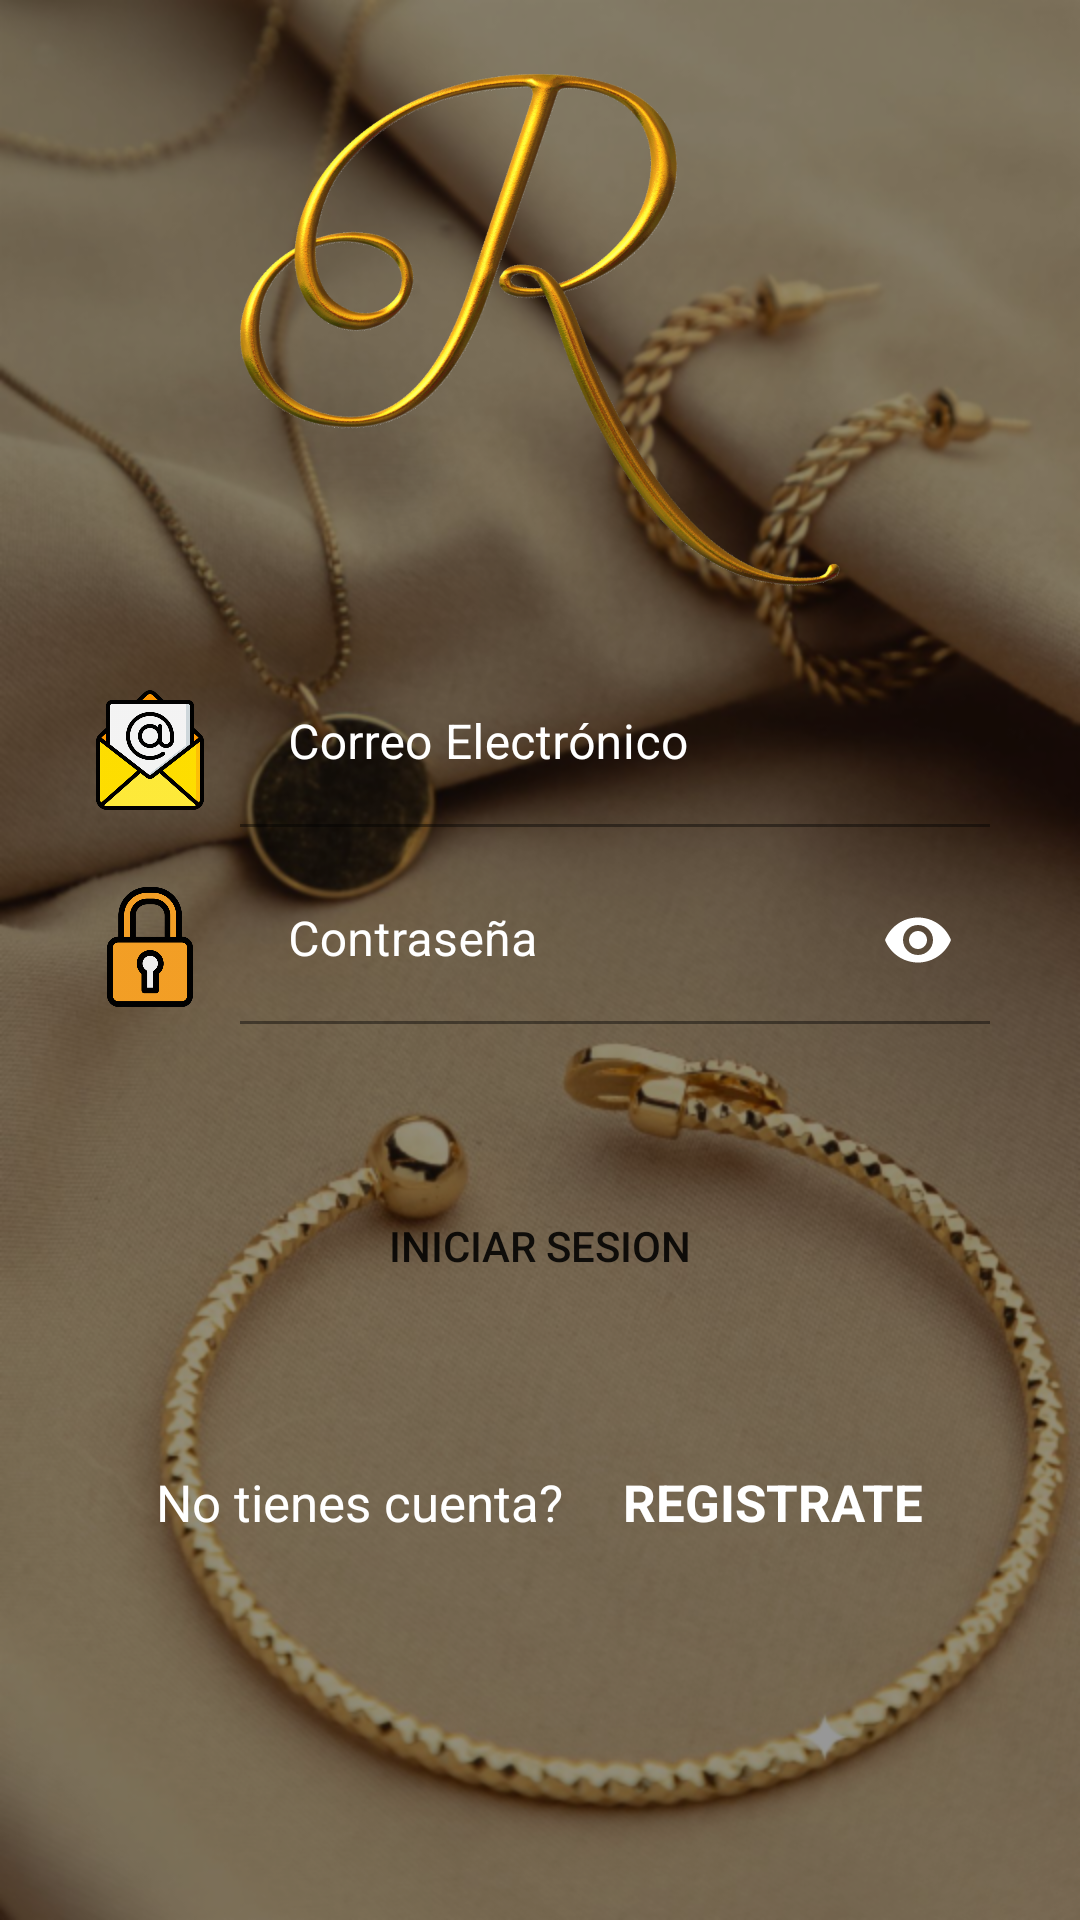

Screen size 1080px×1920px. Icon name, then its center in pixels as (x=x, y=y):
candado: (x=150, y=947)
email: (x=150, y=750)
